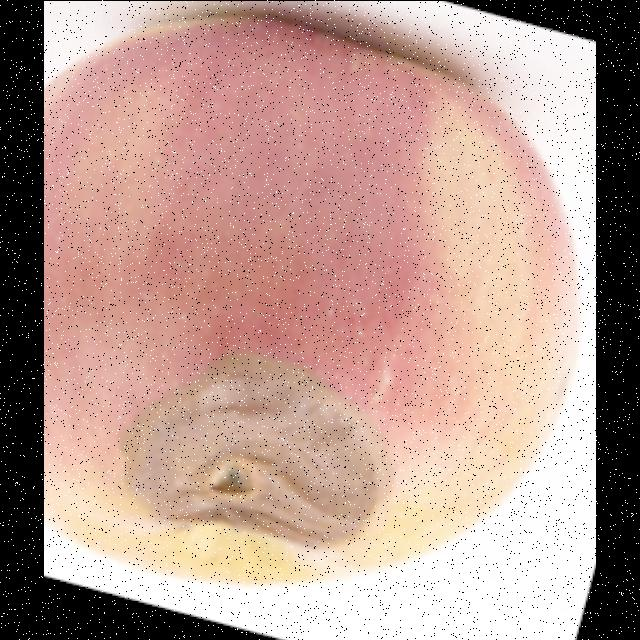Apel Tidak Segar: (44, 8, 583, 606)
